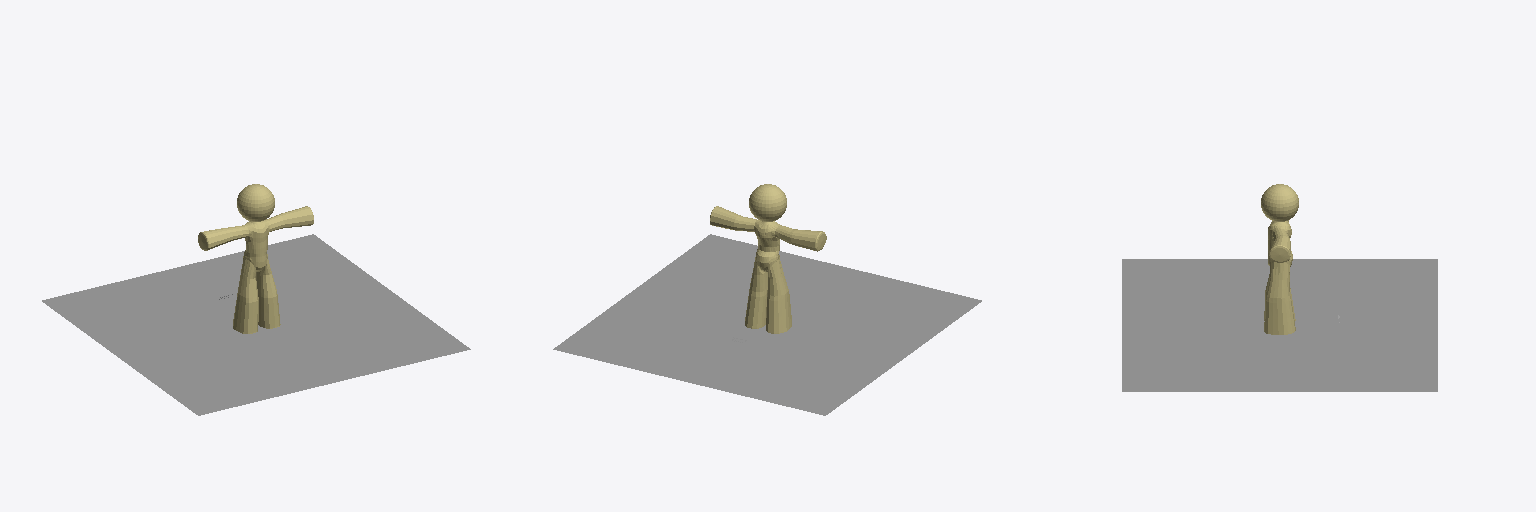
Rendered from Simpleboy.obj.
3 views of the same model, side by side, from view 1: azimuth 30°, elevation 25°; view 2: azimuth 150°, elevation 25°; view 3: azimuth 270°, elevation 25° (orthographic).
Parts seen in each view (by area): view 1: Plane, Sphere; view 2: Plane, Sphere; view 3: Plane, Sphere.
Part boxes in pixels (x1,y1,x2,y2): Plane: (42, 234, 470, 415); Sphere: (198, 184, 313, 333); Plane: (553, 234, 981, 415); Sphere: (710, 184, 826, 333); Plane: (1122, 259, 1437, 391); Sphere: (1261, 184, 1298, 334).
Size of the model in its own units: 16.44 by 8.09 by 16.44.